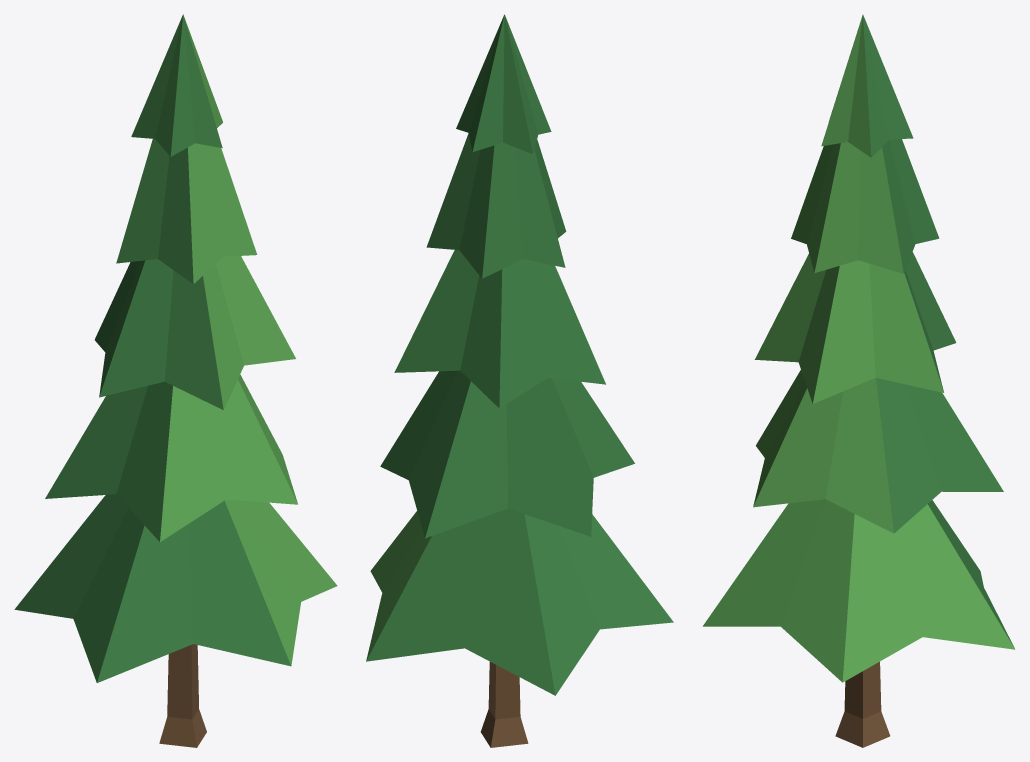
The model's file is tree_pine_a_lod1.glb.
3 views of the same model, side by side, from view 1: azimuth 30°, elevation 25°; view 2: azimuth 150°, elevation 25°; view 3: azimuth 270°, elevation 25° (orthographic).
Parts seen in each view (by area): view 1: tree_pine_a_lod1; view 2: tree_pine_a_lod1; view 3: tree_pine_a_lod1.
Boxes of the visible parts, <box> form: tree_pine_a_lod1: <box>14,14,337,747</box>; tree_pine_a_lod1: <box>366,14,673,747</box>; tree_pine_a_lod1: <box>702,14,1015,747</box>.
Bounding box in the file's own units: 5.11 × 13 × 5.11.
